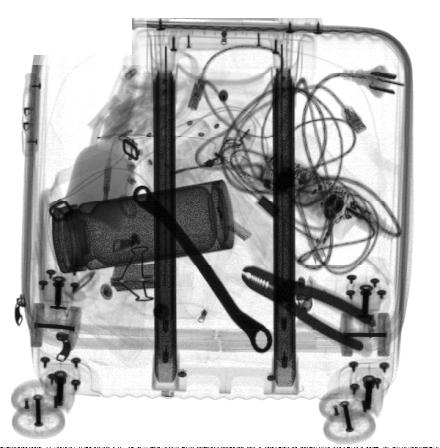Pliers: (241, 265, 378, 357)
Wrench: (133, 184, 273, 354)
